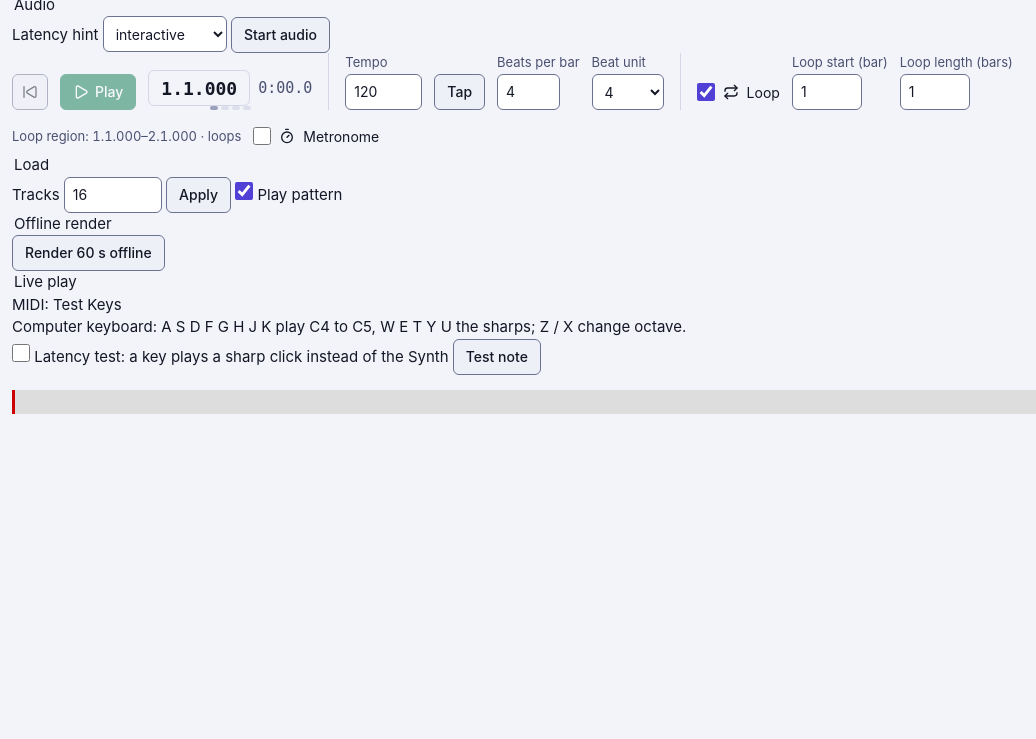
Test case: shows dropouts, buffer size and reported latency
Click the button "Start audio" at coordinates (280, 35), box left=231, top=17, right=330, bottom=53
(page scrolled)
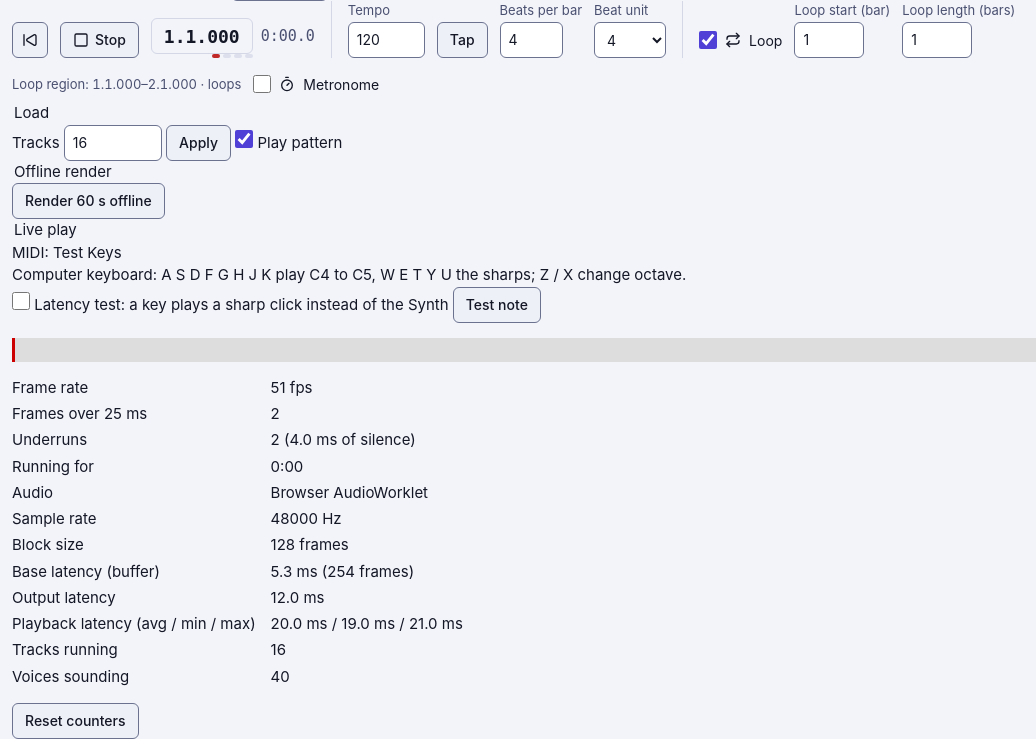
Result: the text "2 (4.0 ms of silence)" is shown at left=271, top=430, right=416, bottom=449
Result: the text "128 frames" is shown at left=271, top=535, right=349, bottom=554
Result: the text "5.3 ms (254 frames)" is shown at left=271, top=562, right=414, bottom=581
